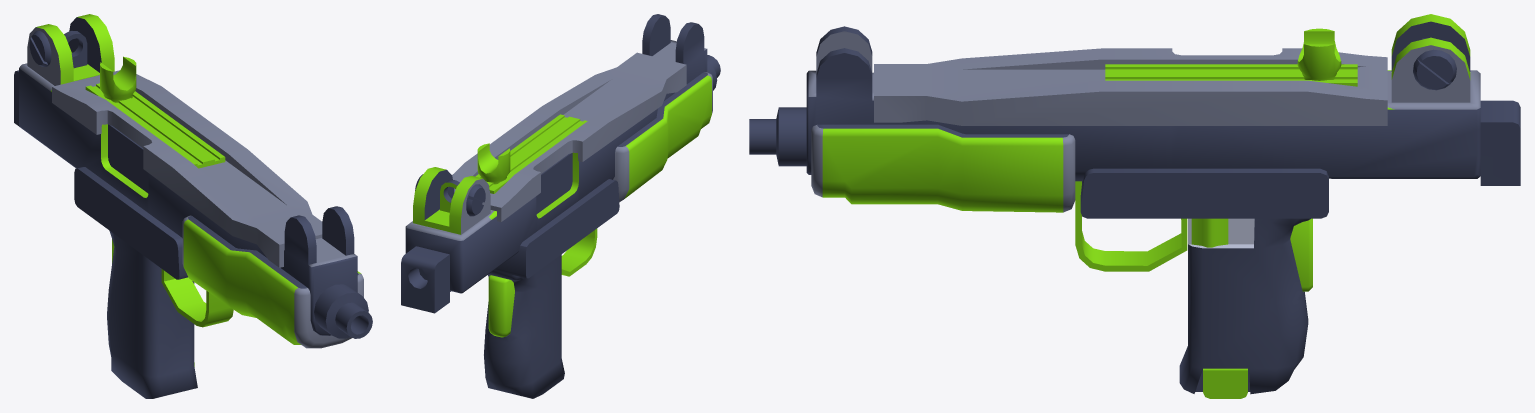
File: Mini_Uzi (1).FBX
3 renders of one model, left to right at view 1: azimuth 30°, elevation 25°; view 2: azimuth 150°, elevation 25°; view 3: azimuth 270°, elevation 25°, orthographic. The views are drawn at different scales.
Parts seen in each view (by area): view 1: Mini_Uzi; view 2: Mini_Uzi; view 3: Mini_Uzi.
Part boxes in pixels (x1,y1,x2,y2): Mini_Uzi: (14, 14, 372, 398); Mini_Uzi: (401, 14, 720, 398); Mini_Uzi: (749, 14, 1520, 398).
Size of the model in its own units: 7.31 by 24.21 by 47.82.
1 material, 1 textured.
